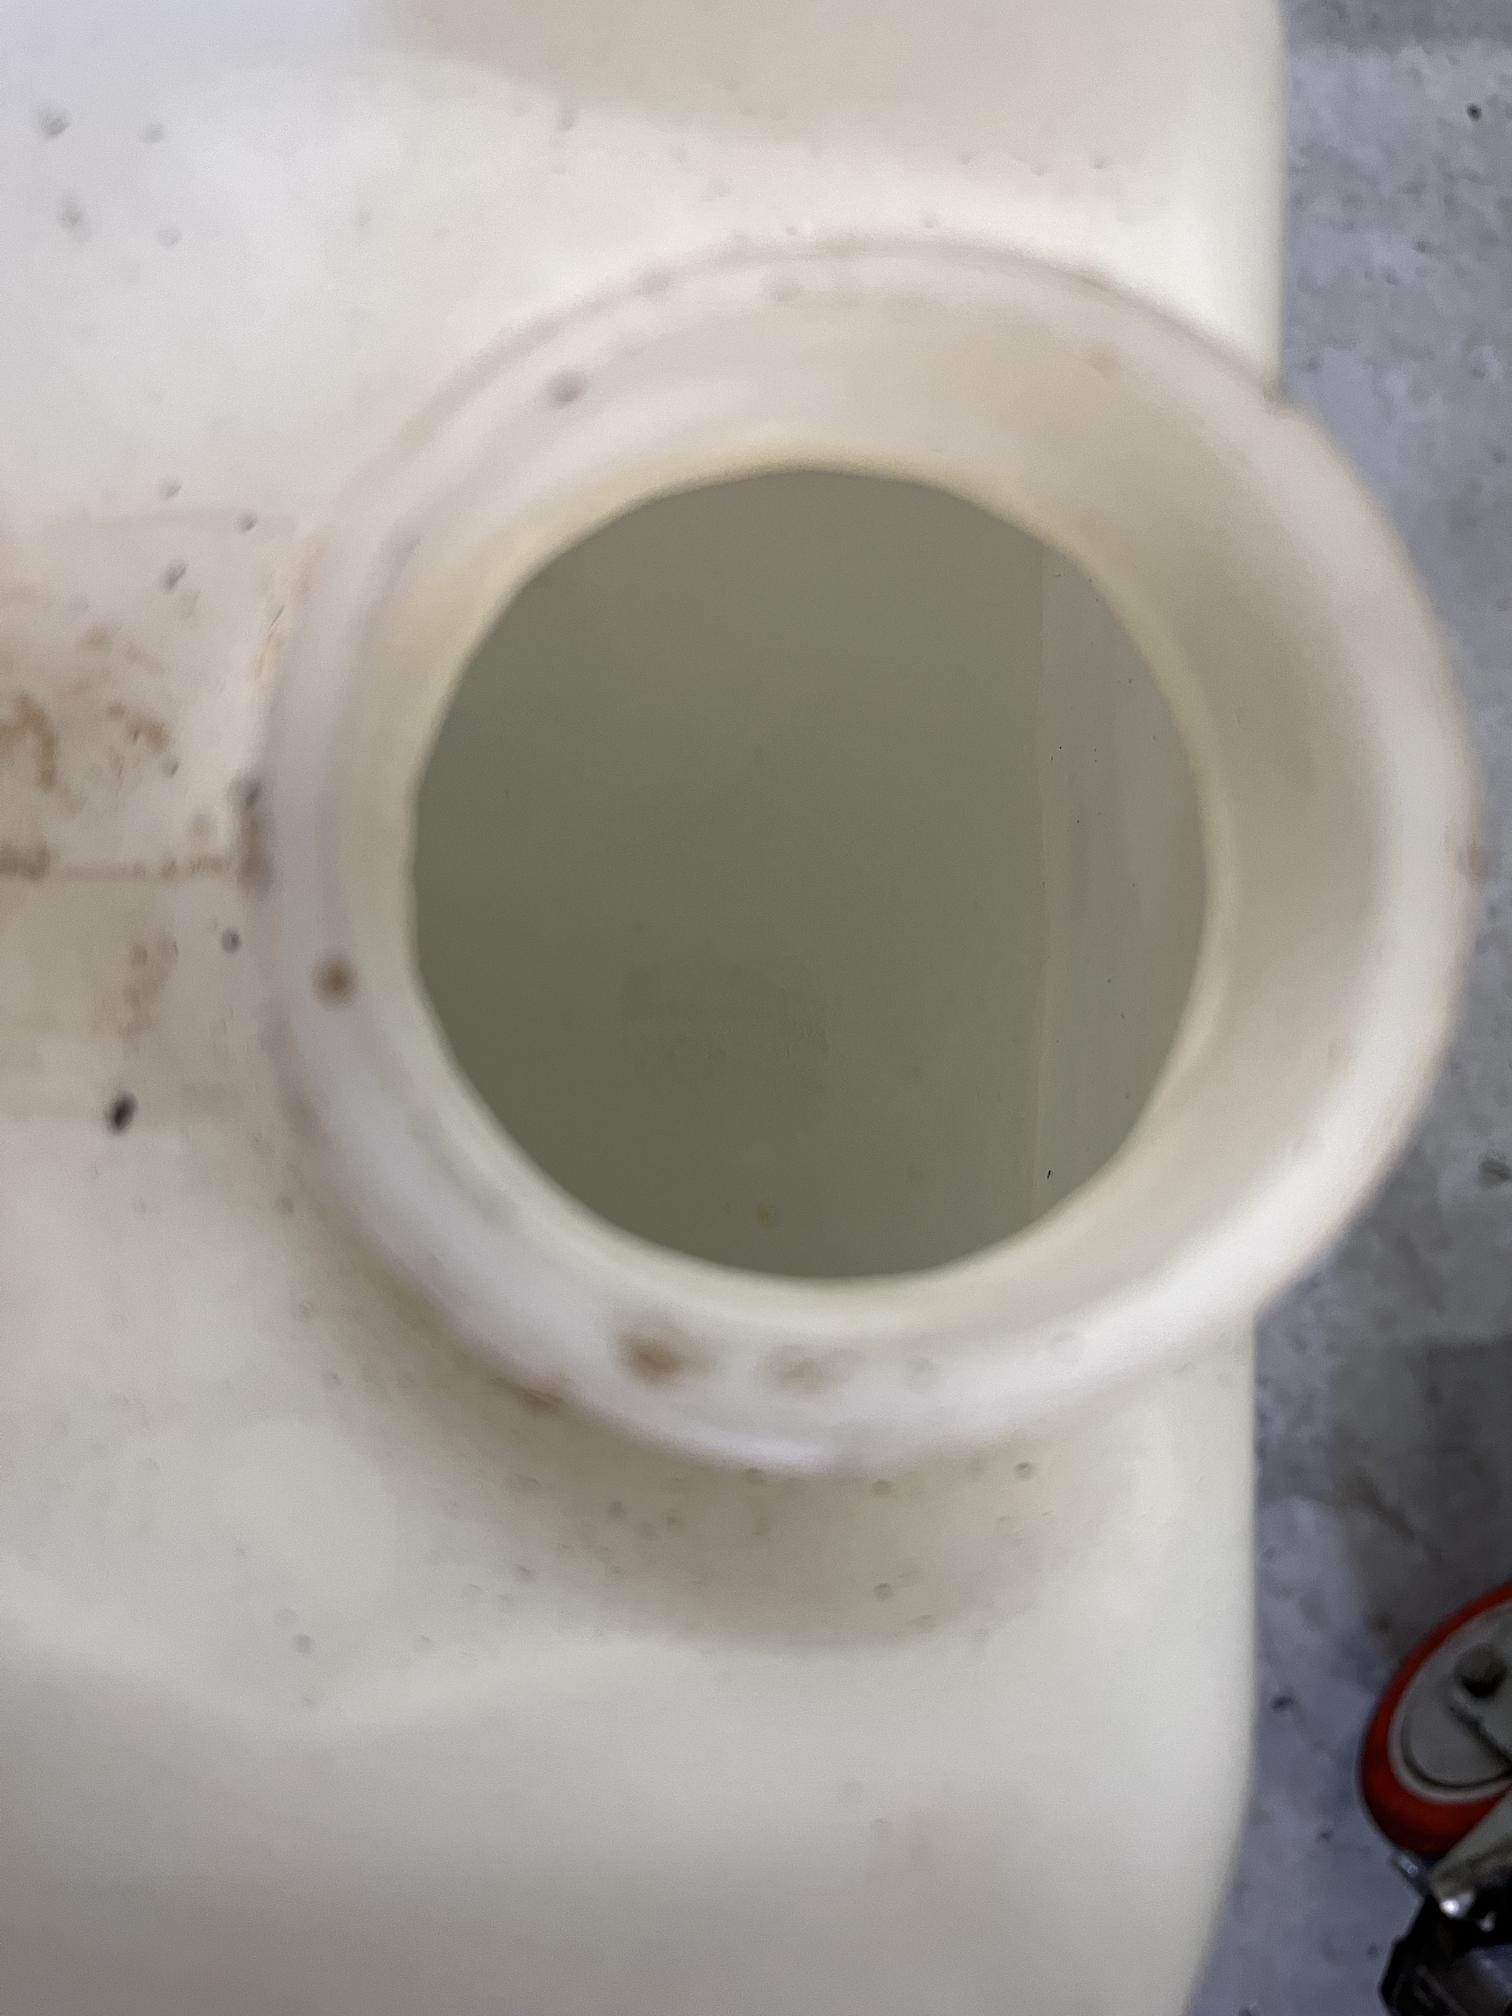Borda de Oleo - - 20ml: (372, 444, 1247, 1327)
